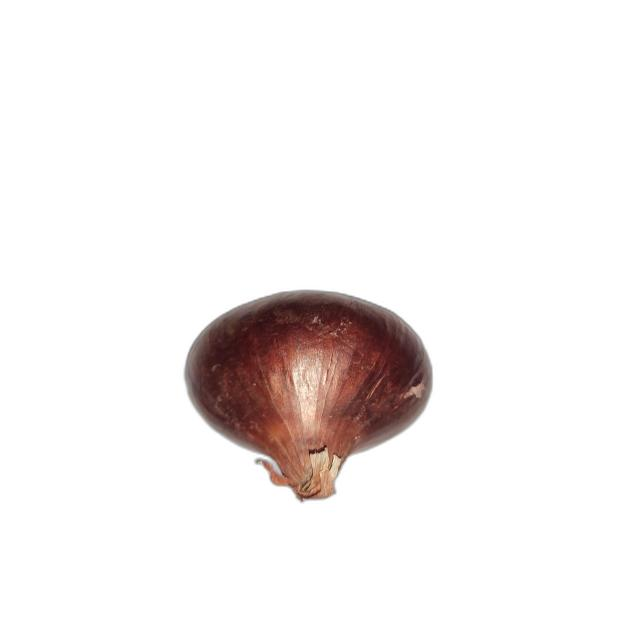onion: (181, 290, 434, 503)
